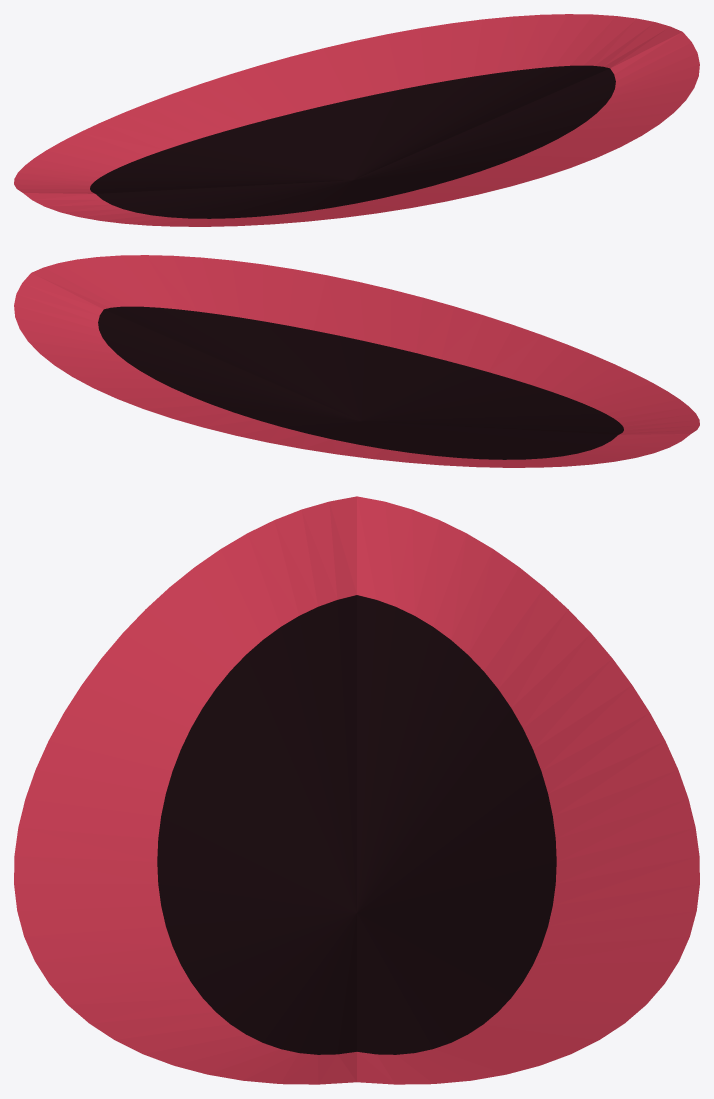
The model's file is viseme-aa.obj.
The picture shows the model from 3 angles, top to bottom: view 1: azimuth 30°, elevation 25°; view 2: azimuth 150°, elevation 25°; view 3: azimuth 270°, elevation 25°; orthographic projection. The views are drawn at different scales.
Parts seen in each view (by area): view 1: viseme_aa; view 2: viseme_aa; view 3: viseme_aa.
Part boxes in pixels (left/top/right/bottom): viseme_aa: left=14, top=14, right=699, bottom=226; viseme_aa: left=14, top=255, right=699, bottom=467; viseme_aa: left=14, top=496, right=699, bottom=1084.
Bounding box in the file's own units: 0.59 × 0.058 × 0.2919.
